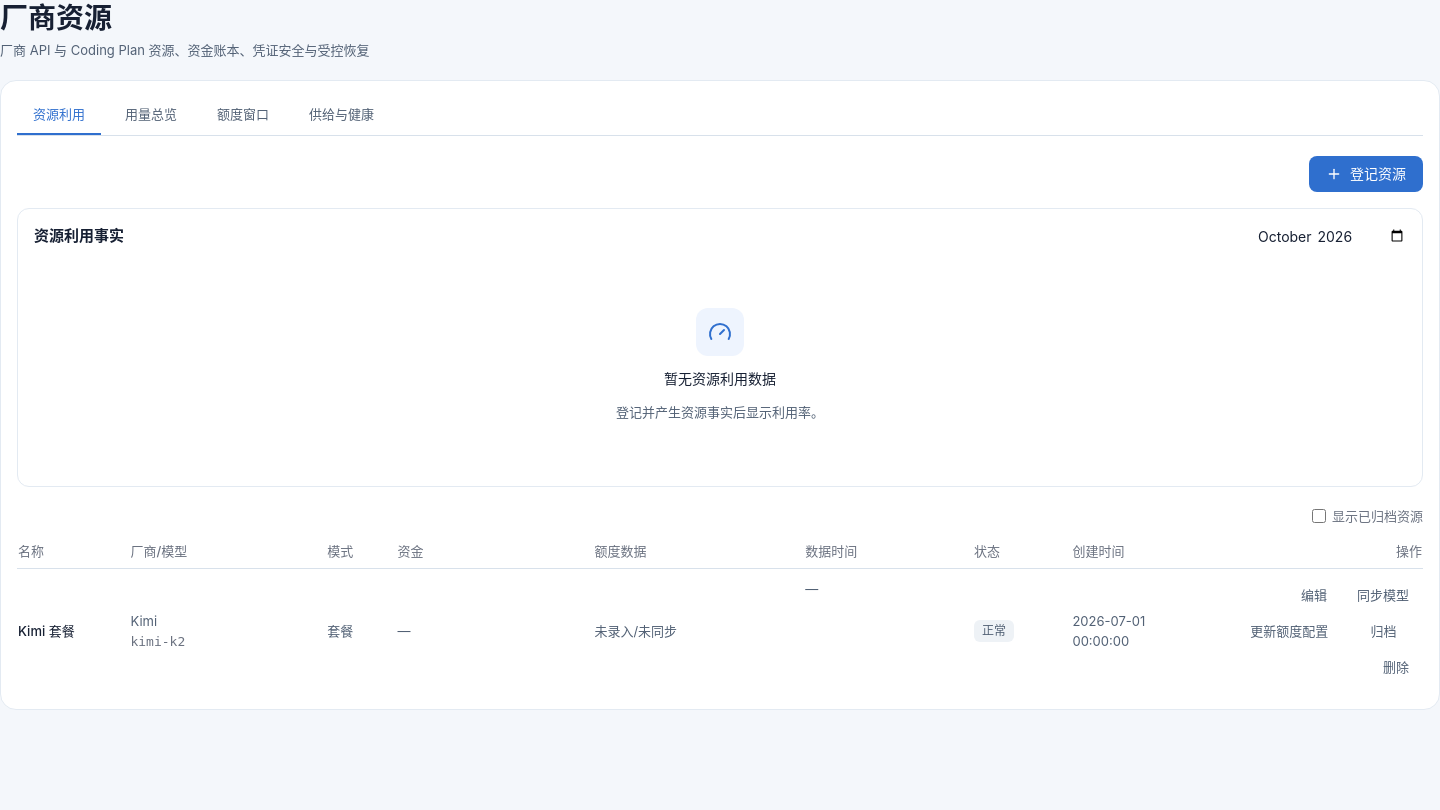
it: POOL-010 厂商经营快照 › 资源登记不再提供资金入口，套餐只保留额度配置
Click the button "登记资源".
click(1366, 174)  # box [1309,156,1423,192]
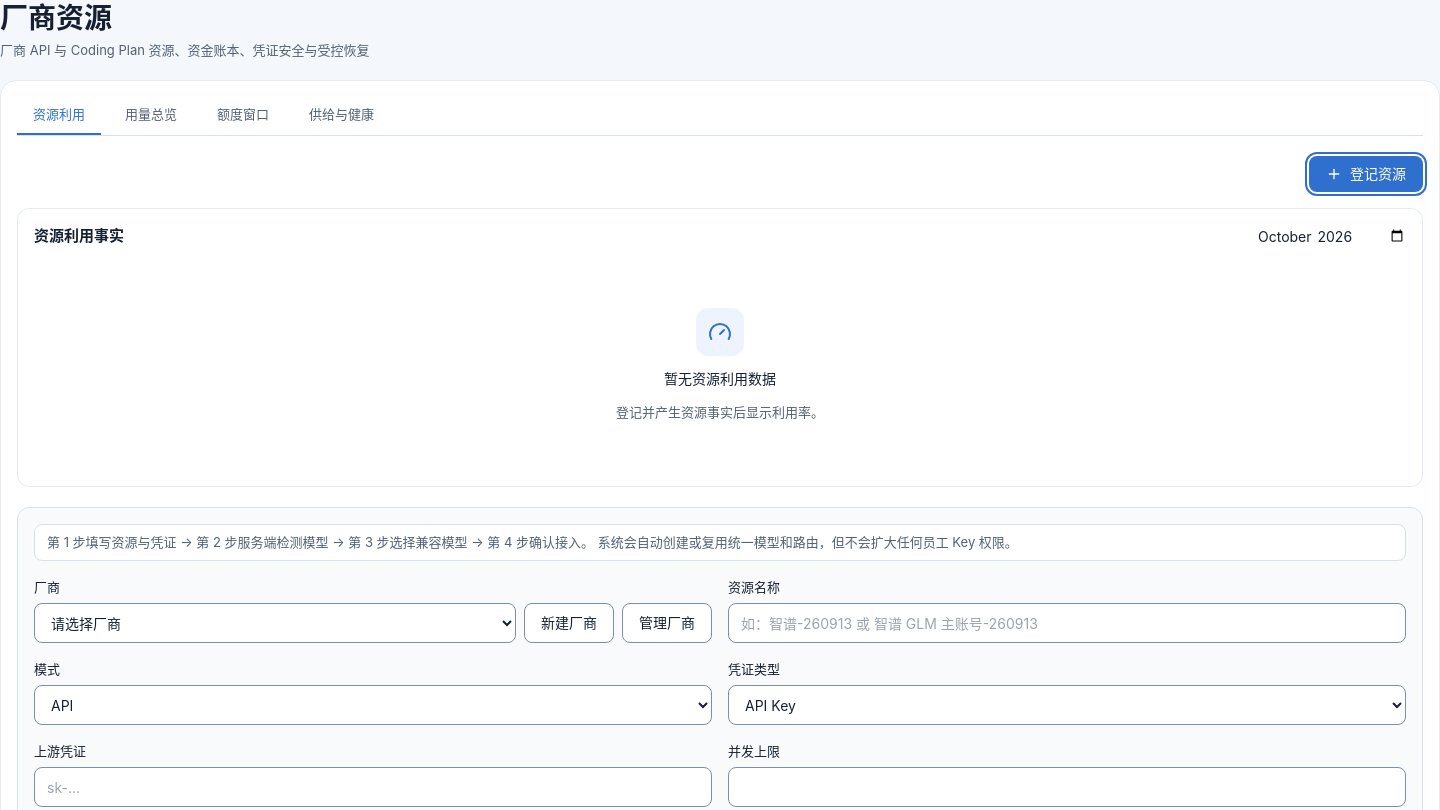
Expected: the field labelled "厂商总额度" is not shown
Select "套餐" in the dropdown labelled "模式" at (373, 705), box [34,685,712,725]
(page scrolled)
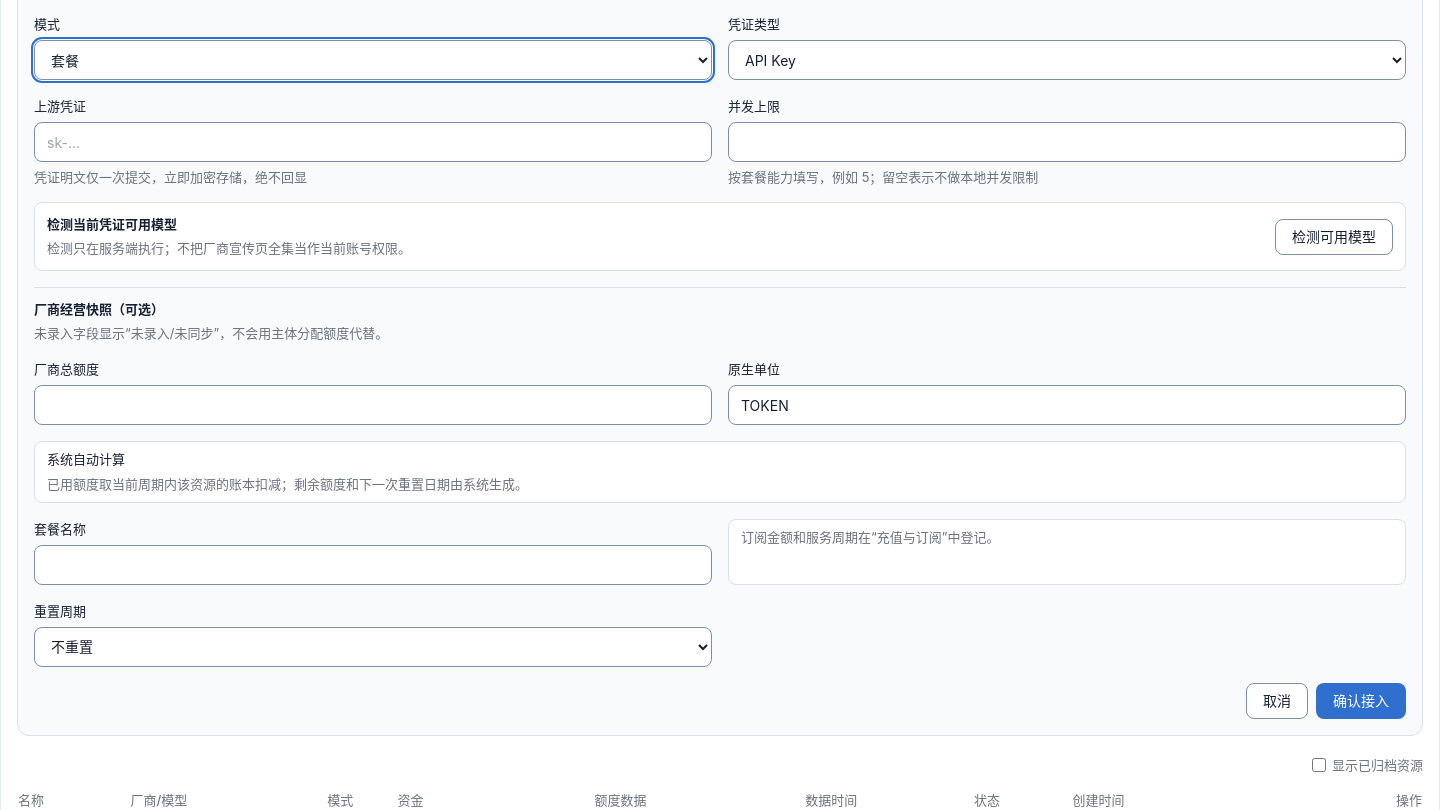
Now the field labelled "厂商总额度" is shown, box [34,385,712,425]
